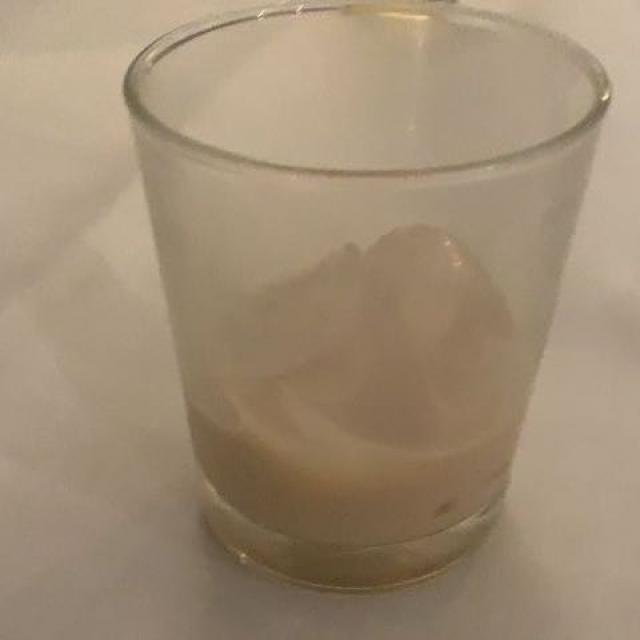water: (180, 347, 532, 552)
